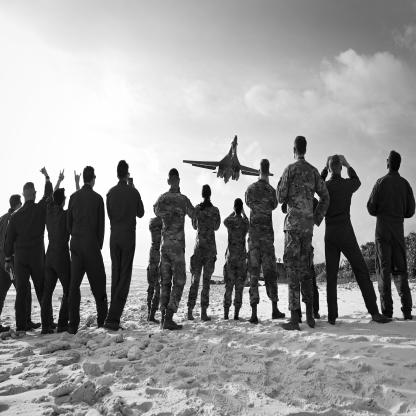B1: (184, 136, 275, 185)
